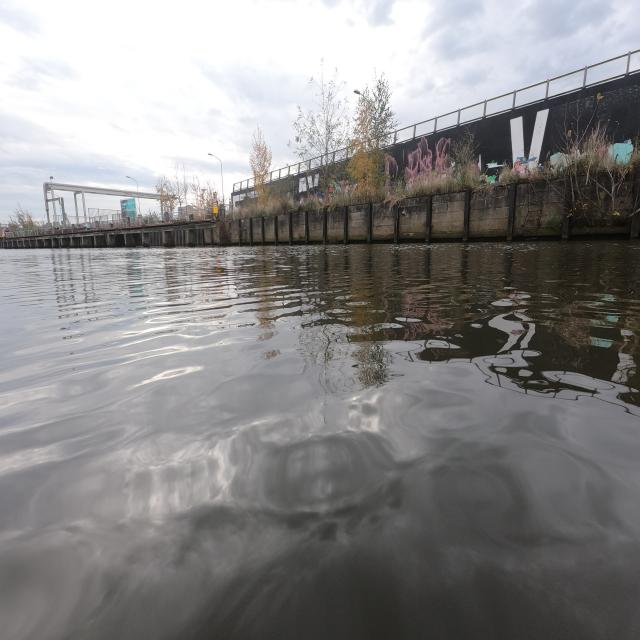sky: (14, 4, 636, 194)
wall: (210, 156, 638, 240), (0, 221, 220, 248)
water: (0, 237, 640, 640), (0, 240, 640, 640)
